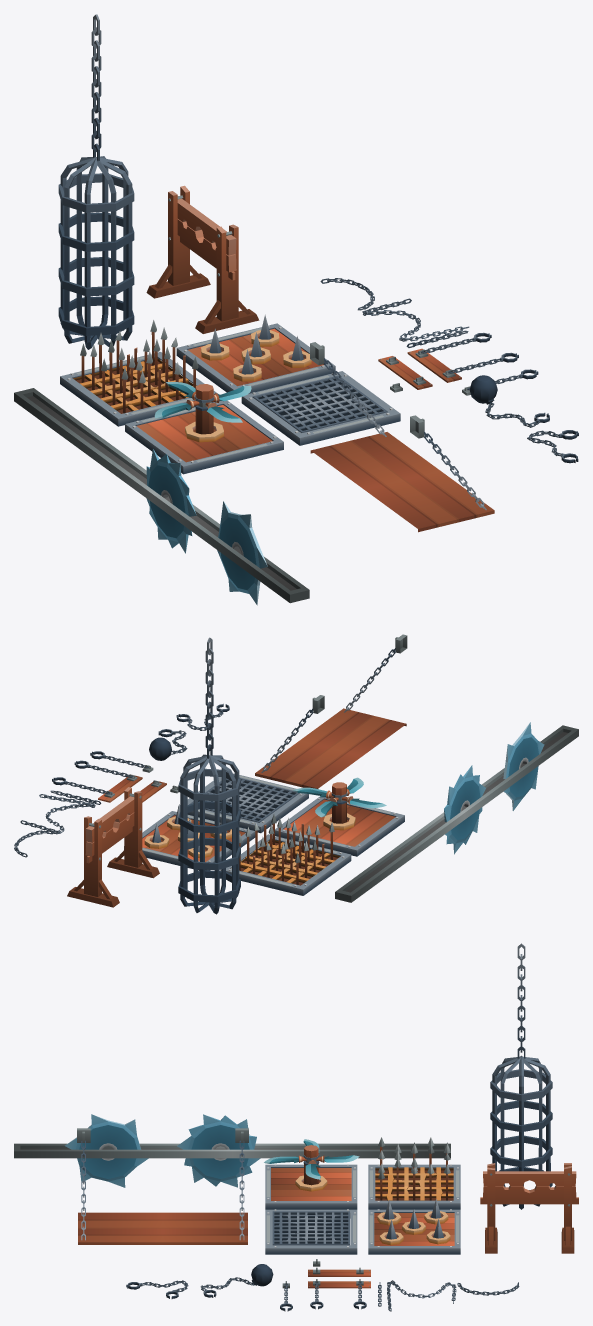
The model's file is Traps.fbx.
The picture shows the model from 3 angles, top to bottom: view 1: azimuth 30°, elevation 25°; view 2: azimuth 150°, elevation 25°; view 3: azimuth 270°, elevation 25°; orthographic projection. The views are drawn at different scales.
Parts seen in each view (by area): view 1: Cage, Chain_bed, Pillory, Saw_hole, Trap, Trap.003, Trap.002, Grid, Trap_spear, Trap.001, Saw.001, Saw (+7 smaller); view 2: Cage, Chain_bed, Pillory, Saw_hole, Trap.003, Trap, Trap_spear, Grid, Saw.001, Trap.002, Saw, Trap.001 (+6 smaller); view 3: Chain_bed, Cage, Saw_hole, Pillory, Trap.003, Trap, Saw.001, Trap.002, Saw, Grid, Trap.001, Trap_spear (+7 smaller).
Part boxes in pixels (<box>): Cage: <box>58,14,134,349</box>; Chain_bed: <box>310,342,494,532</box>; Pillory: <box>146,185,259,333</box>; Saw_hole: <box>14,388,309,603</box>; Trap: <box>125,400,283,474</box>; Trap.003: <box>60,352,217,426</box>; Trap.002: <box>176,323,335,393</box>; Grid: <box>252,375,387,432</box>; Trap_spear: <box>80,320,198,413</box>; Trap.001: <box>241,371,400,445</box>; Saw.001: <box>146,449,196,553</box>; Saw: <box>217,501,267,605</box>; Cage: <box>178,637,240,914</box>; Chain_bed: <box>255,634,407,788</box>; Pillory: <box>67,787,159,907</box>; Saw_hole: <box>335,725,578,902</box>; Trap.003: <box>220,834,351,895</box>; Trap: <box>275,796,404,856</box>; Trap_spear: <box>239,813,334,884</box>; Grid: <box>189,778,299,822</box>; Saw.001: <box>444,765,485,854</box>; Trap.002: <box>124,811,255,870</box>; Saw: <box>503,722,544,810</box>; Trap.001: <box>178,773,308,833</box>; Chain_bed: <box>77,1128,248,1244</box>; Cage: <box>490,943,552,1209</box>; Saw_hole: <box>14,1143,450,1158</box>; Pillory: <box>480,1163,578,1253</box>; Trap.003: <box>368,1164,460,1209</box>; Trap: <box>265,1164,357,1209</box>; Saw.001: <box>177,1114,260,1187</box>; Trap.002: <box>368,1209,460,1254</box>; Saw: <box>65,1114,148,1187</box>; Grid: <box>272,1211,349,1245</box>; Trap.001: <box>265,1209,357,1254</box>; Trap_spear: <box>378,1137,450,1200</box>.
Bounding box in the file's own units: 4.99 × 4.16 × 7.36.
